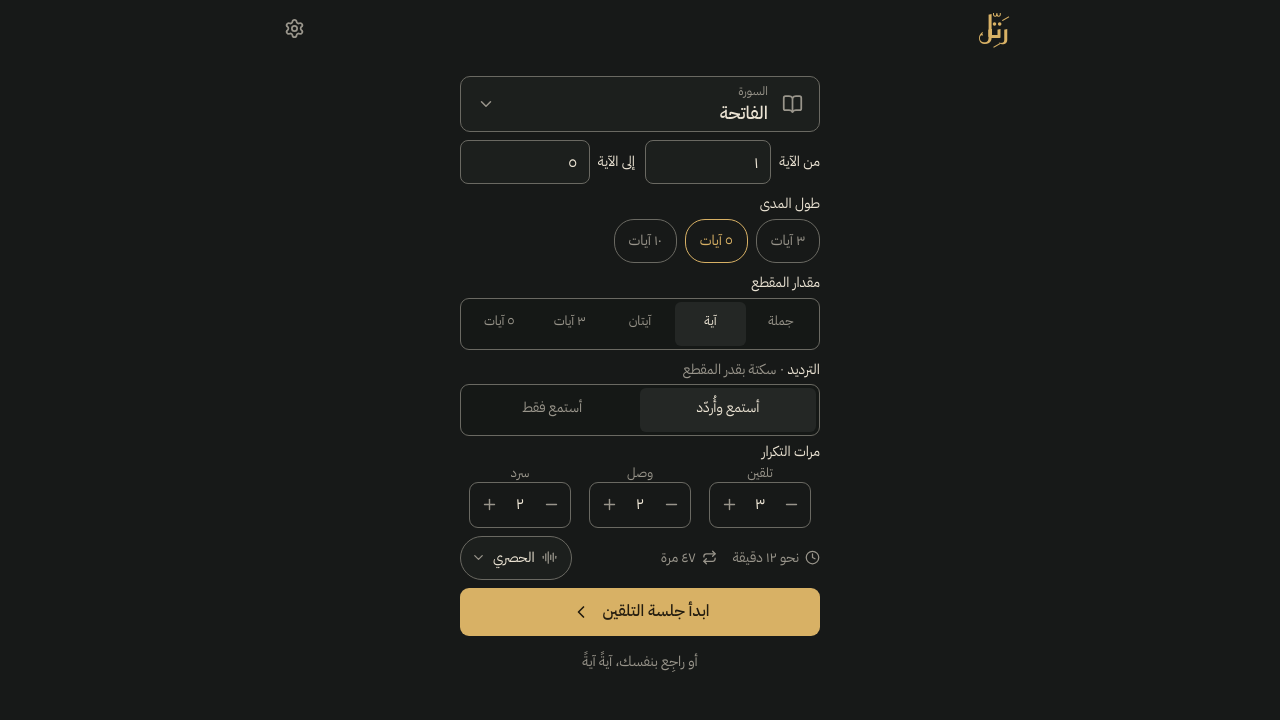
Test case: the reciter picker › gives every visible control a name, keeps every id unique, and dims no text
Click the button with aria-label "القارئ، " at [516, 558], box x1=460 y1=536 x2=572 y2=580
(page scrolled)
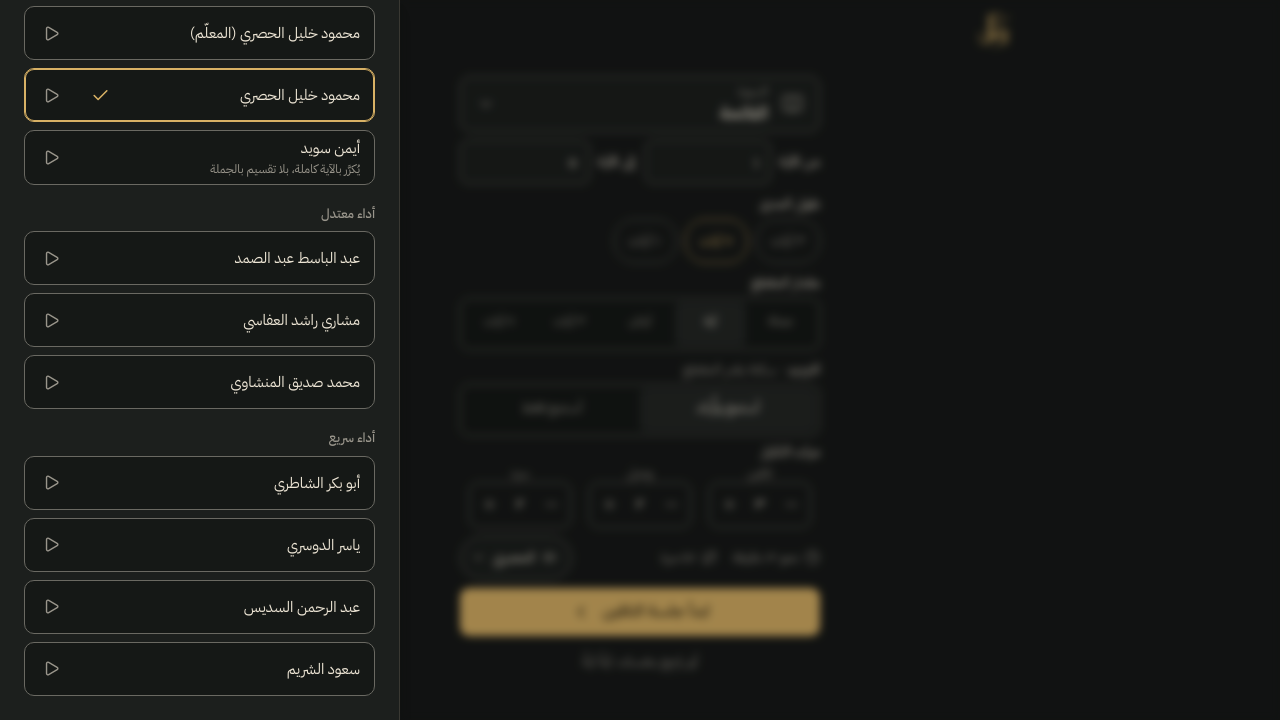
Expected: the button "سعود الشريم" is shown, x1=77 y1=643 x2=374 y2=695
